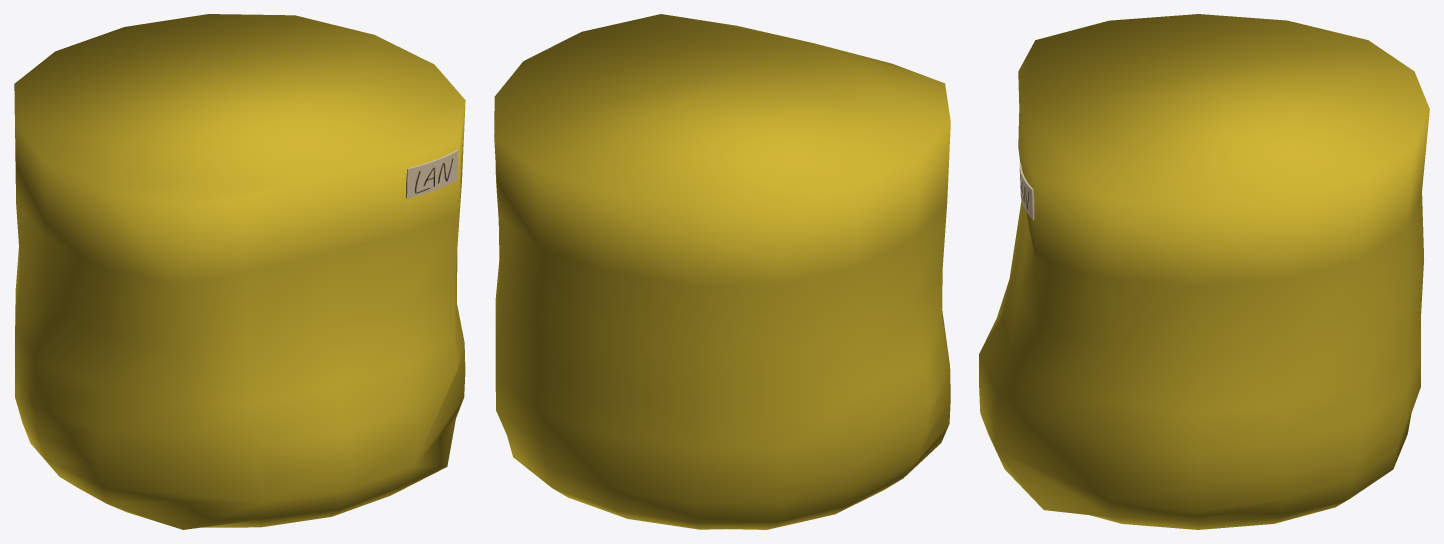
File: toy_monster_body3.fbx
3 views of the same model, side by side, from view 1: azimuth 30°, elevation 25°; view 2: azimuth 150°, elevation 25°; view 3: azimuth 270°, elevation 25° (orthographic).
Visible parts, largest first — view 1: body.001, label; view 2: body.001; view 3: body.001.
Part boxes in pixels (x1,y1,x2,y2): body.001: (14,14,465,529); label: (406,149,458,198); body.001: (494,14,950,529); body.001: (979,14,1429,529).
Bounding box in the file's own units: 233 × 193 × 217.
Materials: 3 (1 with a texture image).
